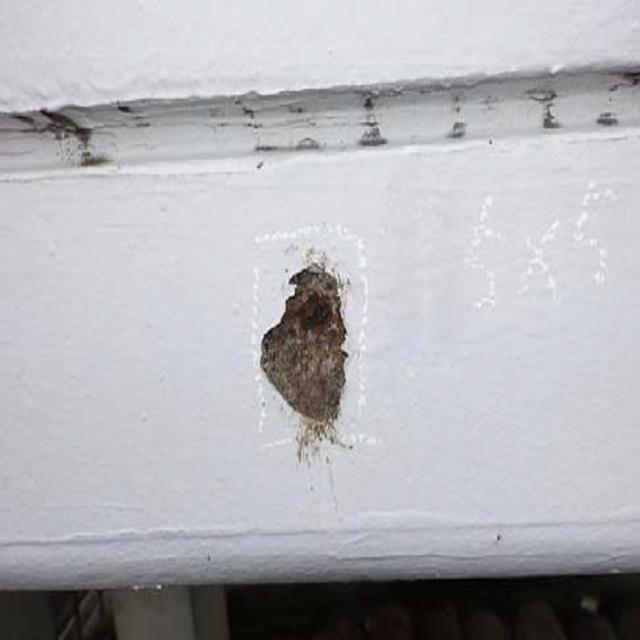spalling: (250, 233, 376, 460)
